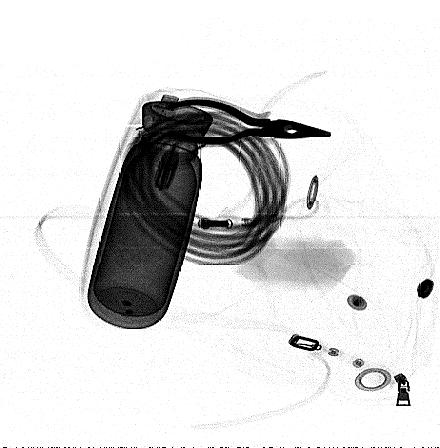Pliers: (157, 99, 334, 144)
